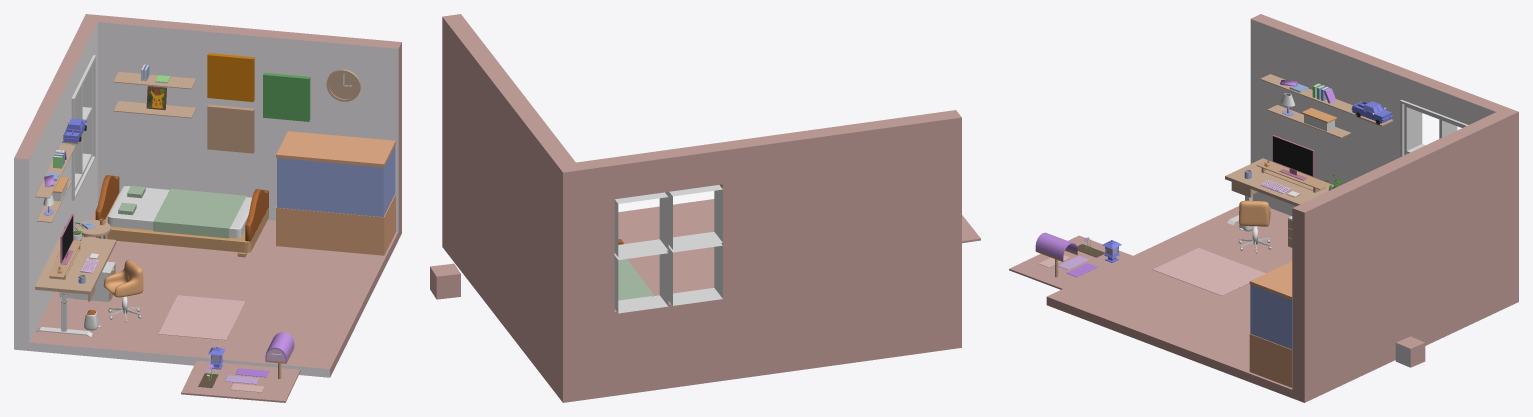
File: edmond_room.glb
The picture shows the model from 3 angles, left to right: view 1: azimuth 30°, elevation 25°; view 2: azimuth 150°, elevation 25°; view 3: azimuth 270°, elevation 25°; orthographic projection. The views are drawn at different scales.
Parts seen in each view (by area): view 1: Body, Aquarium, Bed, Floor Items, Shelves, Desks, MiniFloor, ArtTwo, ArtThree, ArtOne, Table Stuff, Chair (+4 smaller); view 2: Body, Cube, Bed; view 3: Body, Aquarium, Floor Items, Shelves, MiniFloor, Desks, Computer, Table Stuff, Mailbox, Chair, Cube, Truck.
Boxes of the visible parts, x1=… form: Body: x1=14, y1=14, x2=401, y2=377; Aquarium: x1=276, y1=131, x2=395, y2=255; Bed: x1=95, y1=175, x2=268, y2=257; Floor Items: x1=74, y1=261, x2=245, y2=340; Shelves: x1=35, y1=64, x2=196, y2=222; Desks: x1=35, y1=220, x2=116, y2=336; MiniFloor: x1=181, y1=360, x2=300, y2=402; ArtTwo: x1=263, y1=72, x2=310, y2=121; ArtThree: x1=207, y1=104, x2=254, y2=153; ArtOne: x1=207, y1=53, x2=254, y2=101; Table Stuff: x1=48, y1=218, x2=105, y2=283; Chair: x1=103, y1=259, x2=143, y2=297; Body: x1=442, y1=14, x2=961, y2=402; Cube: x1=430, y1=263, x2=460, y2=299; Bed: x1=618, y1=239, x2=654, y2=300; Body: x1=1046, y1=14, x2=1518, y2=402; Aquarium: x1=1249, y1=261, x2=1292, y2=387; Floor Items: x1=1152, y1=216, x2=1292, y2=295; Shelves: x1=1260, y1=74, x2=1355, y2=137; MiniFloor: x1=1009, y1=235, x2=1132, y2=289; Desks: x1=1225, y1=158, x2=1332, y2=224; Computer: x1=1272, y1=135, x2=1314, y2=180; Table Stuff: x1=1244, y1=159, x2=1342, y2=197; Mailbox: x1=1035, y1=232, x2=1077, y2=277; Chair: x1=1239, y1=200, x2=1270, y2=226; Cube: x1=1395, y1=336, x2=1425, y2=367; Truck: x1=1351, y1=101, x2=1392, y2=124.
Size of the model in its own units: 43.67 by 19.49 by 47.33.
43 materials, 1 textured.
